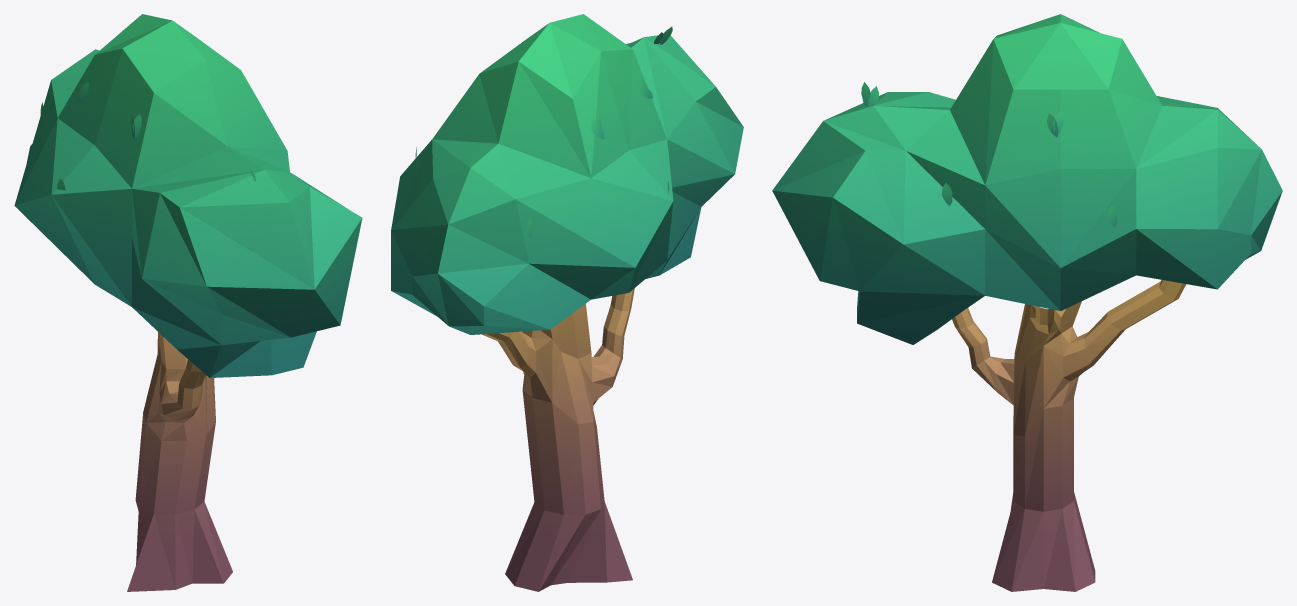
Rendered from albero1.glb.
3 views of the same model, side by side, from view 1: azimuth 30°, elevation 25°; view 2: azimuth 150°, elevation 25°; view 3: azimuth 270°, elevation 25° (orthographic). The views are drawn at different scales.
Bounding box in the file's own units: 83.54 × 188 × 158.
1 material, 1 textured.
